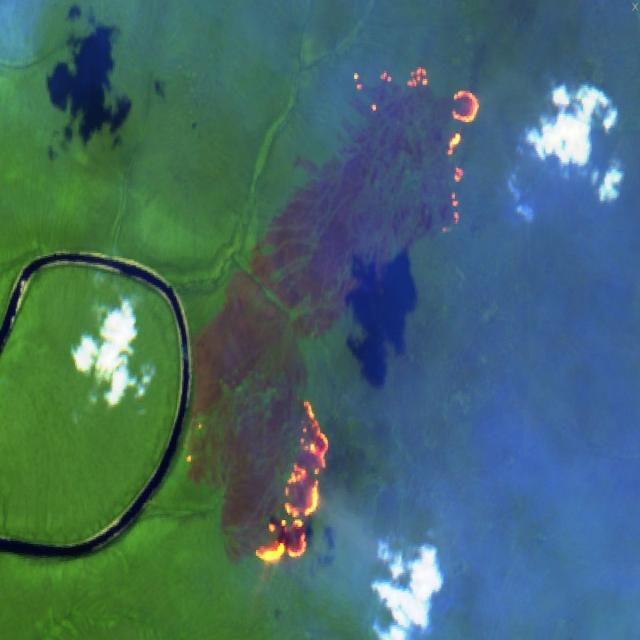fire: (350, 58, 481, 238), (249, 395, 335, 568)
